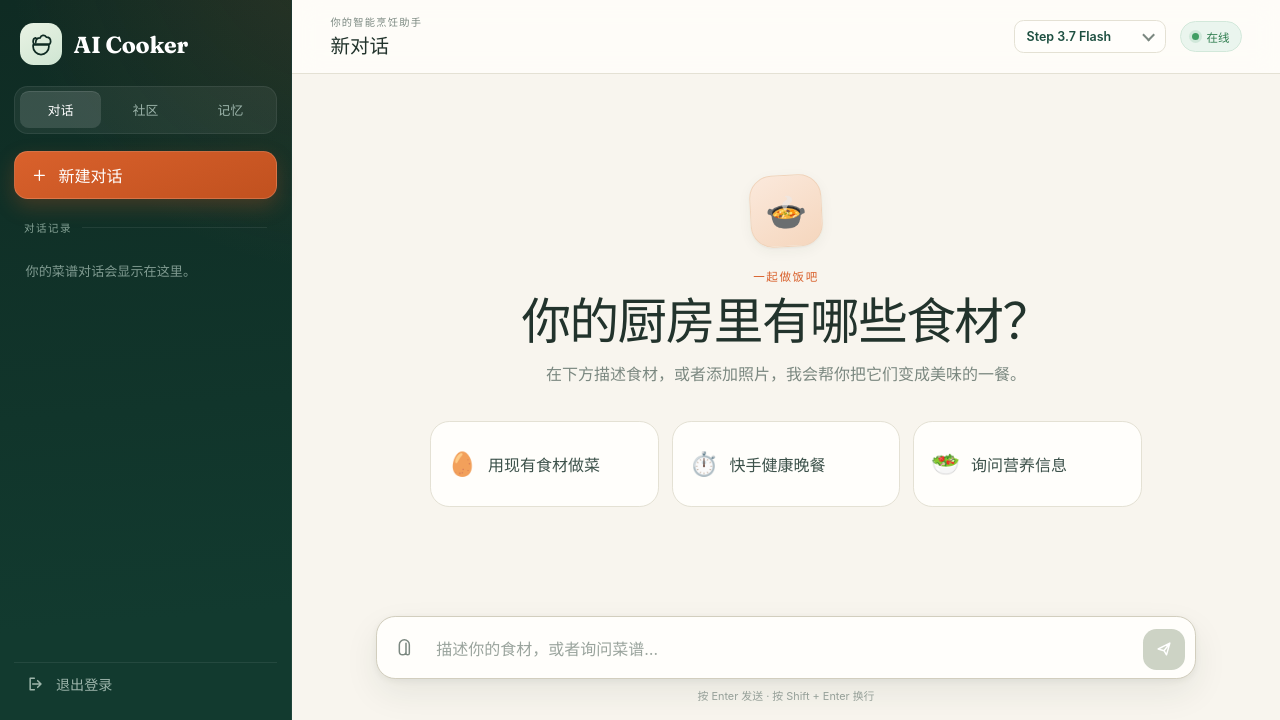
Test case: historical image previews › shows the model selector and disables images for DeepSeek
This screenshot has width=1280, height=720.
Select "DeepSeek V4 Pro" in the dropdown: (1090, 36) [1014,20,1166,53]
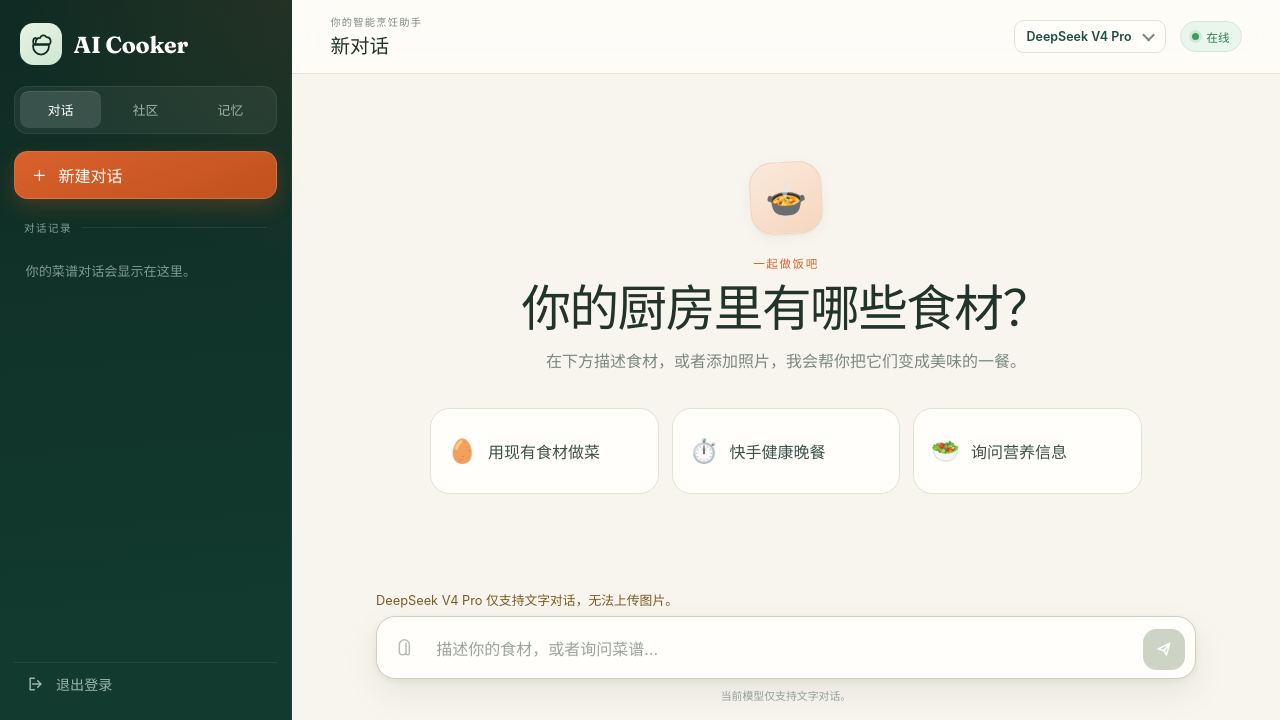
Expected: the message with class "model-notice" shows "仅支持文字对话", [376,593,678,608]
Expected: the button with class "composer__attach" is disabled, [386,629,426,669]
